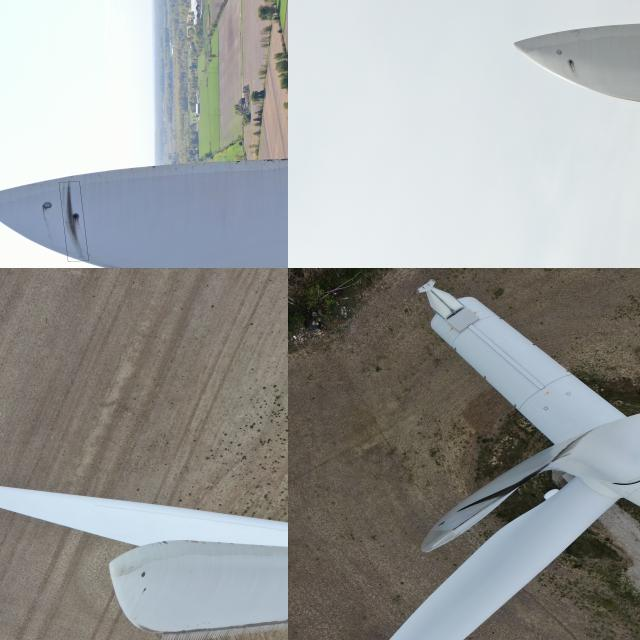damage: (448, 474, 534, 520), (64, 210, 85, 247), (183, 536, 240, 546), (148, 540, 172, 548), (72, 212, 80, 220), (566, 59, 576, 64), (142, 586, 150, 592)
